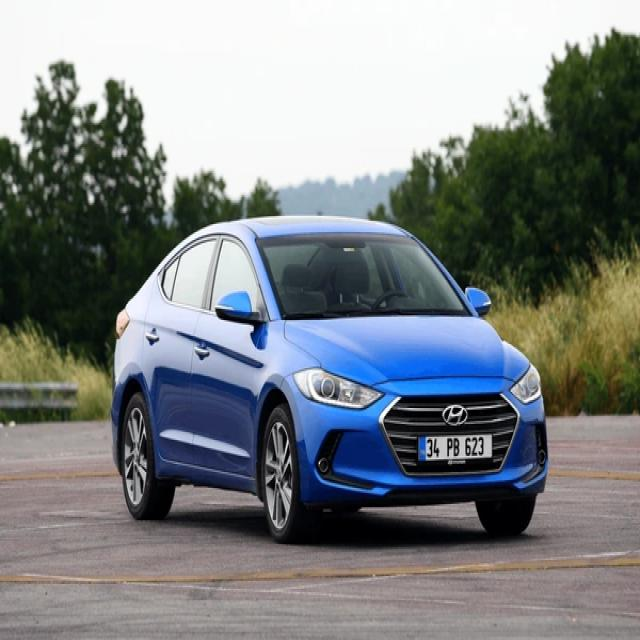hyundai: (442, 400, 467, 428)
